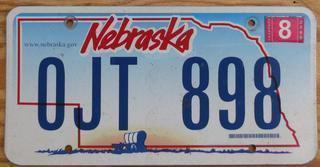placa de veiculo: (7, 4, 320, 164)
